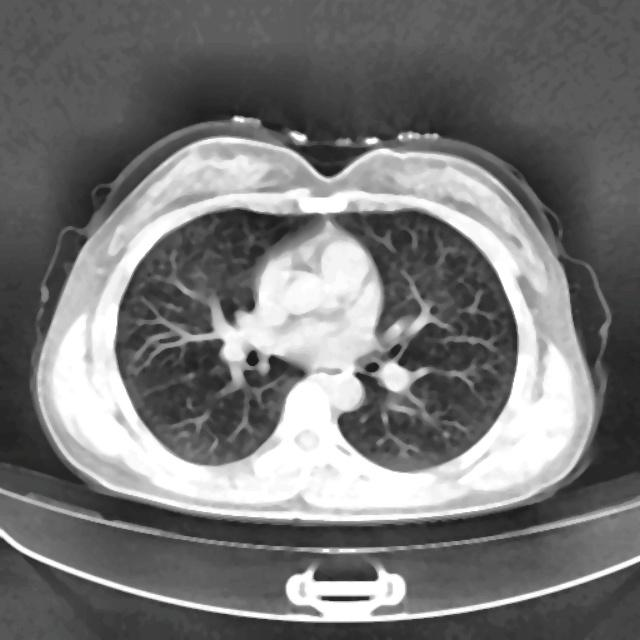covid: (30, 117, 610, 526)
